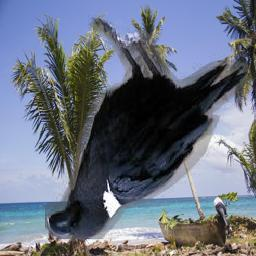Crow: (46, 15, 249, 239)
